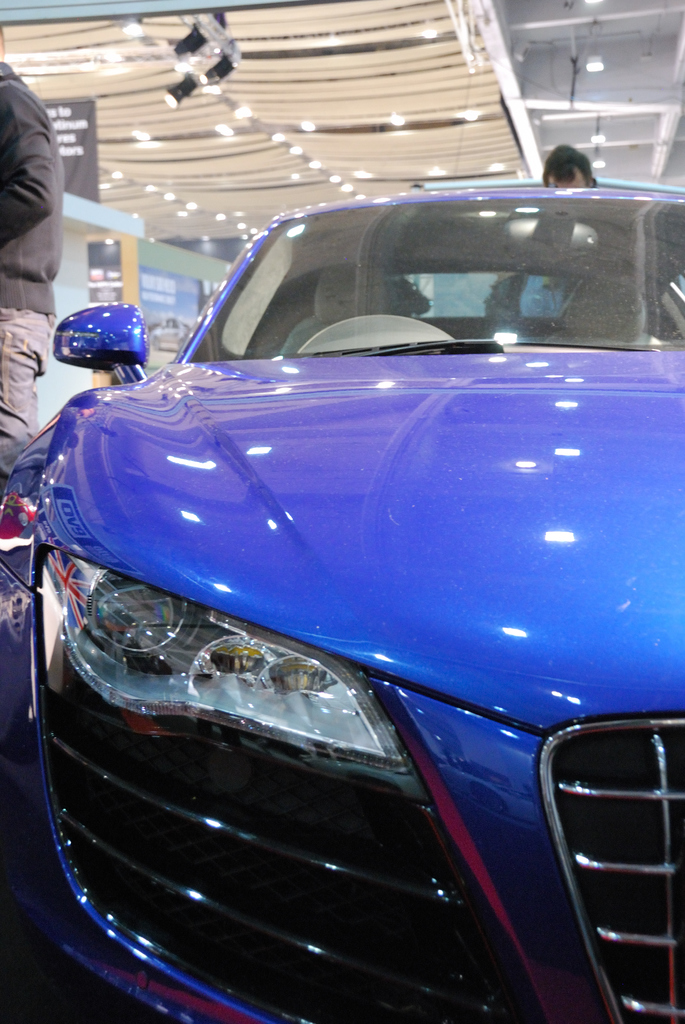Car: (0, 188, 684, 1023)
